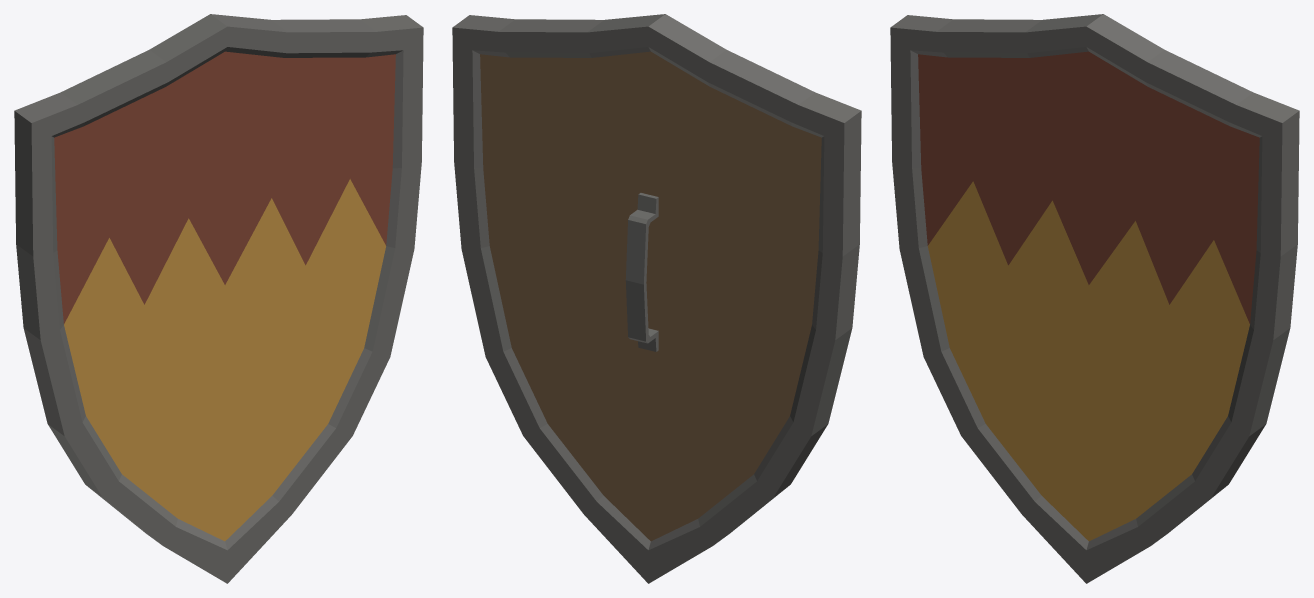
The model's file is SM_pwe_medieval_shield_04b.fbx.
The picture shows the model from 3 angles, left to right: view 1: azimuth 30°, elevation 25°; view 2: azimuth 150°, elevation 25°; view 3: azimuth 330°, elevation 25°; orthographic projection.
Visible parts, largest first — view 1: SM_pwe_medieval_shield_04b; view 2: SM_pwe_medieval_shield_04b; view 3: SM_pwe_medieval_shield_04b.
Boxes of the visible parts, box(x1,y1,x2,y2) form: SM_pwe_medieval_shield_04b: box(14, 14, 423, 583); SM_pwe_medieval_shield_04b: box(452, 14, 861, 583); SM_pwe_medieval_shield_04b: box(890, 14, 1299, 583).
Size of the model in its own units: 58.64 by 79.67 by 7.67.
